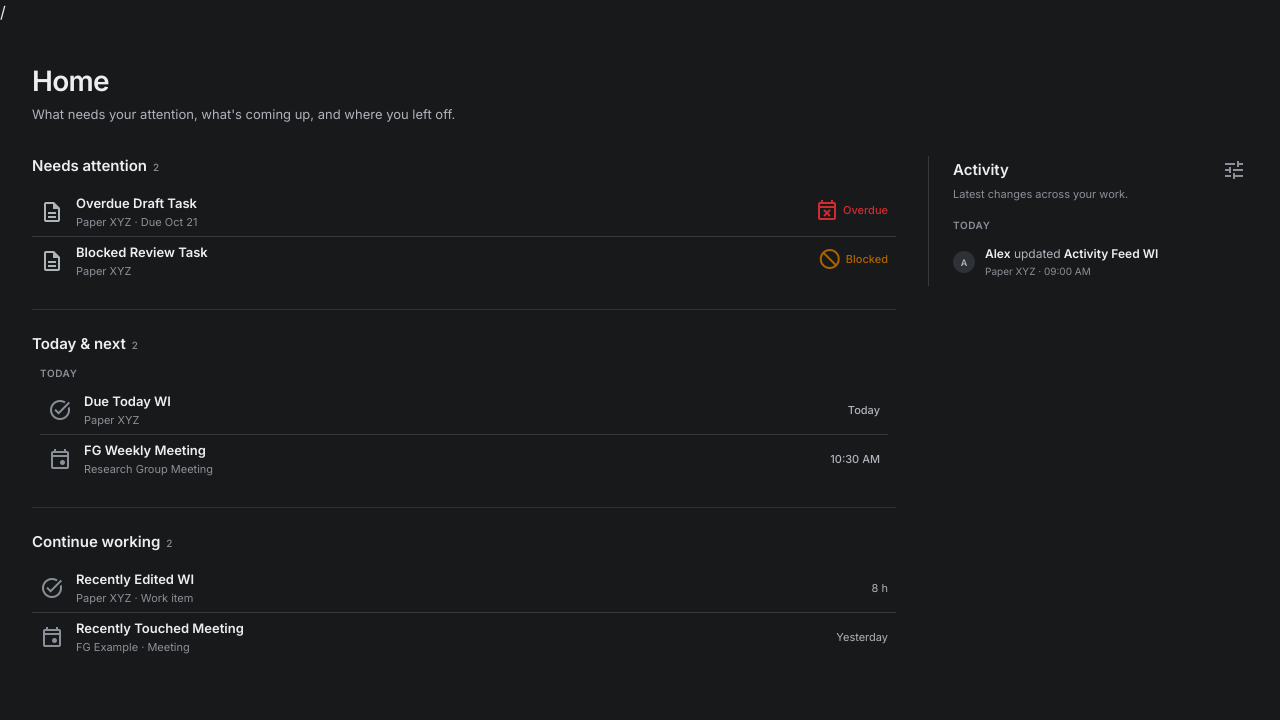
Activity domain filter › selects all four categories initially, with no active mark and no Reset
Check: the text "Activity Feed WI" is shown, box [1061, 246, 1158, 261]
Click the button named "Filter activity" at (1234, 170), box [1220, 156, 1248, 184]
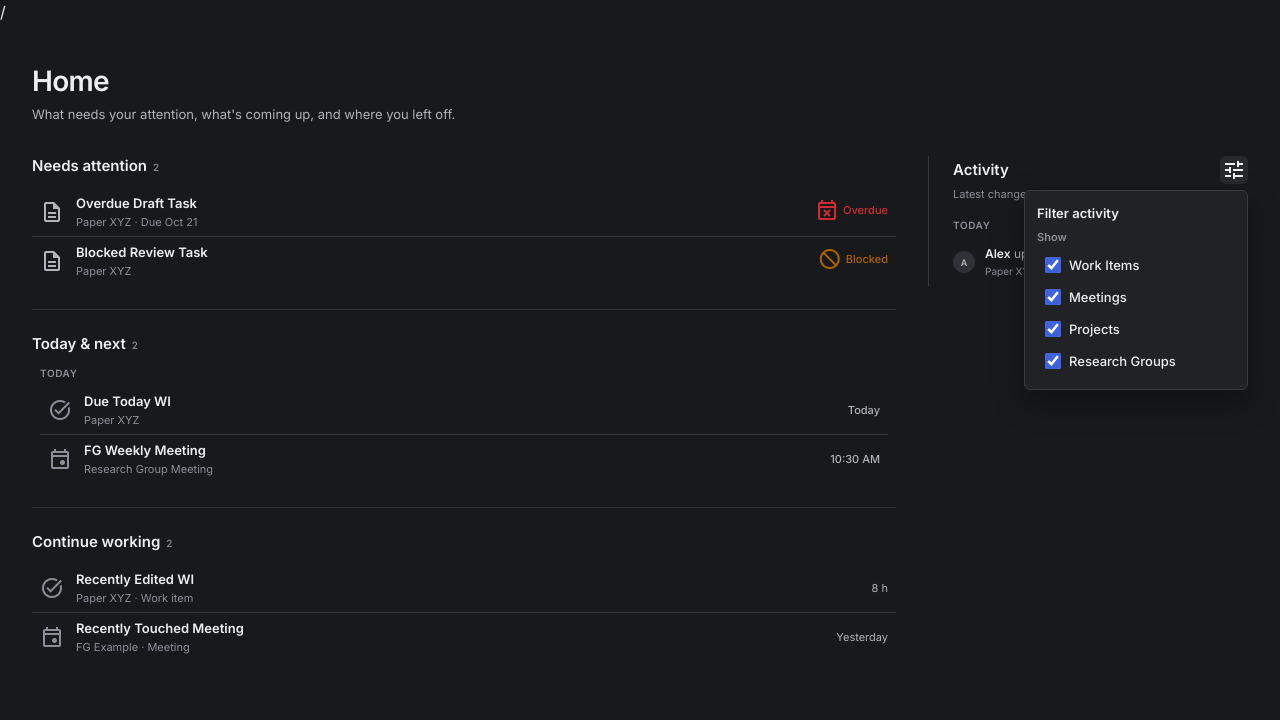
Check: the checkbox labelled "Work Items" is checked, box [1045, 257, 1061, 273]
Check: the checkbox labelled "Work Items" is enabled, box [1045, 257, 1061, 273]
Check: the checkbox labelled "Meetings" is checked, box [1045, 289, 1061, 305]
